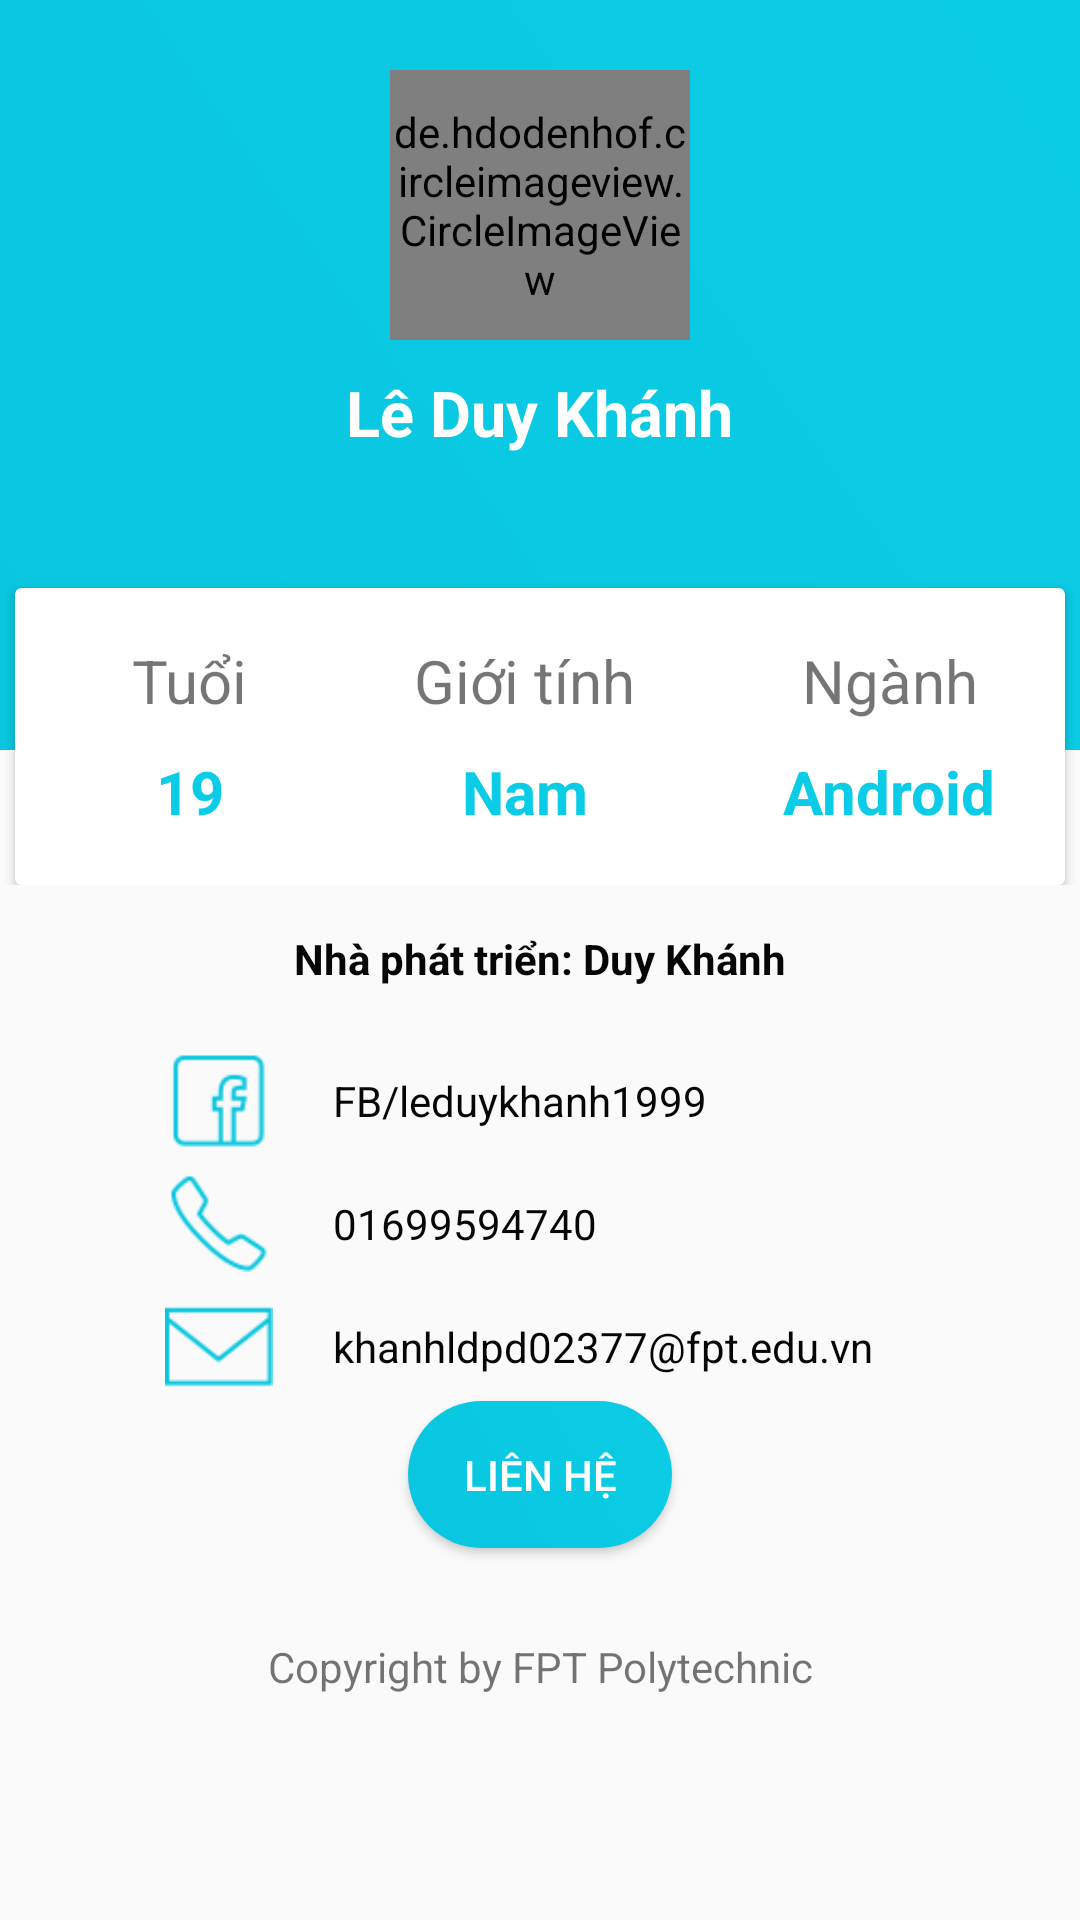

Named icons in this screenshot (1080x1920) and their bounding boxes, (x1, y1, x2, y2):
email: (165, 1307, 273, 1387)
phone: (171, 1176, 267, 1272)
